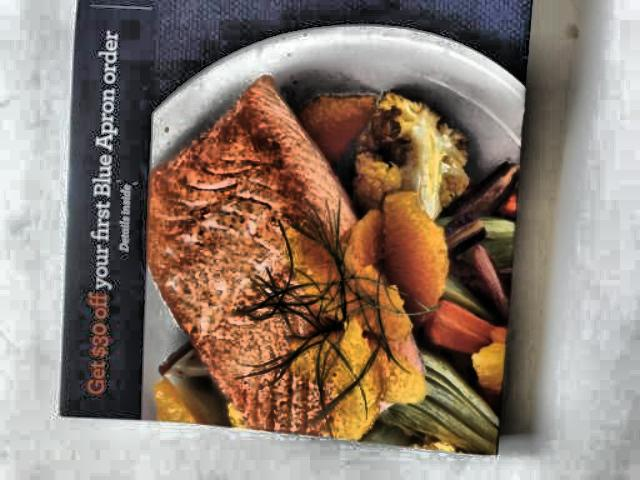Paper: (21, 0, 552, 460)
